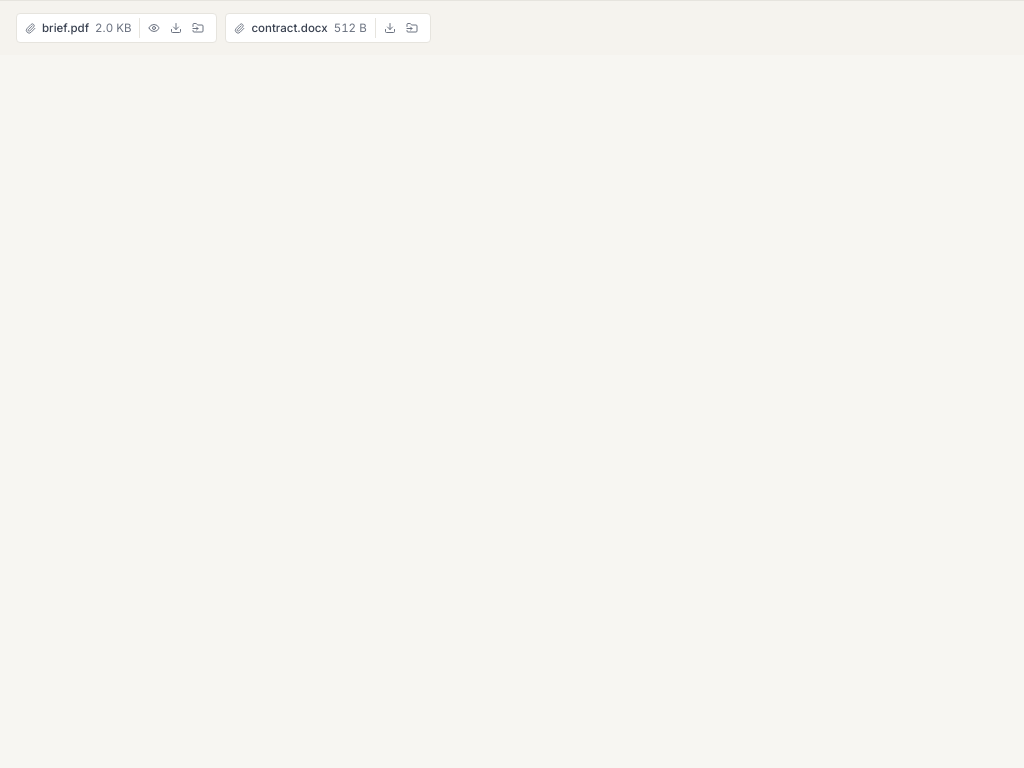
Test: filing dialog - matter visibility › a default matter missing from the open-matter list (closed) is still named
The image size is (1024, 768).
Click the button named "File brief.pdf to matter". click: (198, 28)
box: [188,18,208,38]
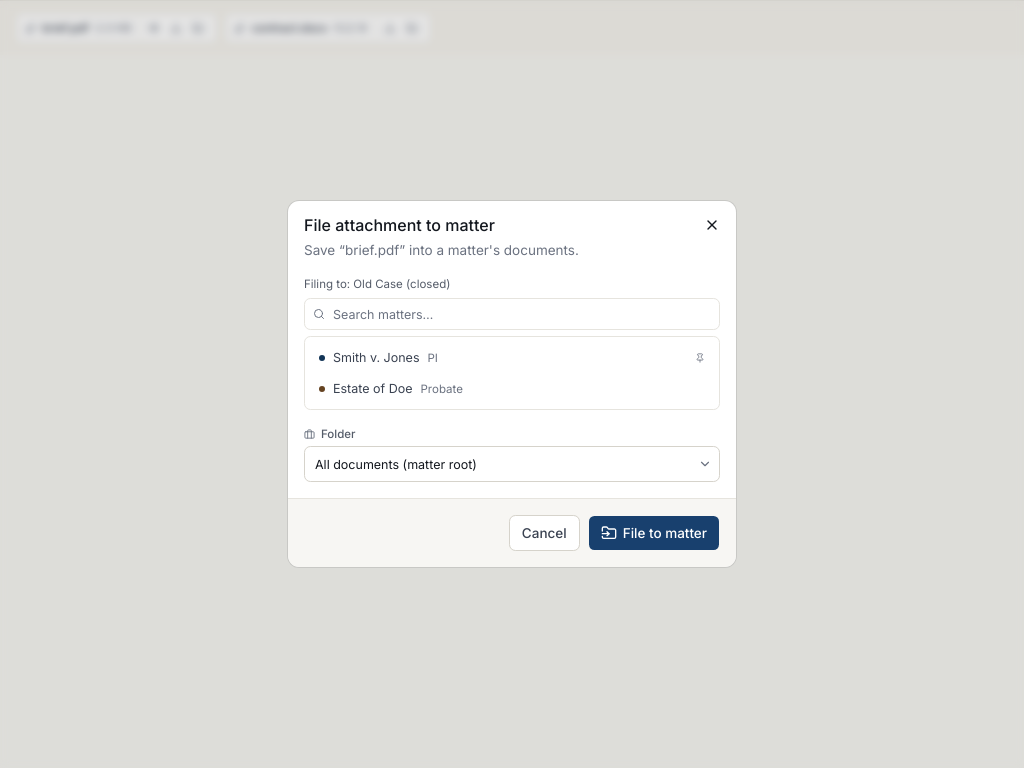
Expected: the text "Filing to: Old Case (closed)" is shown, [304,277,450,291]
